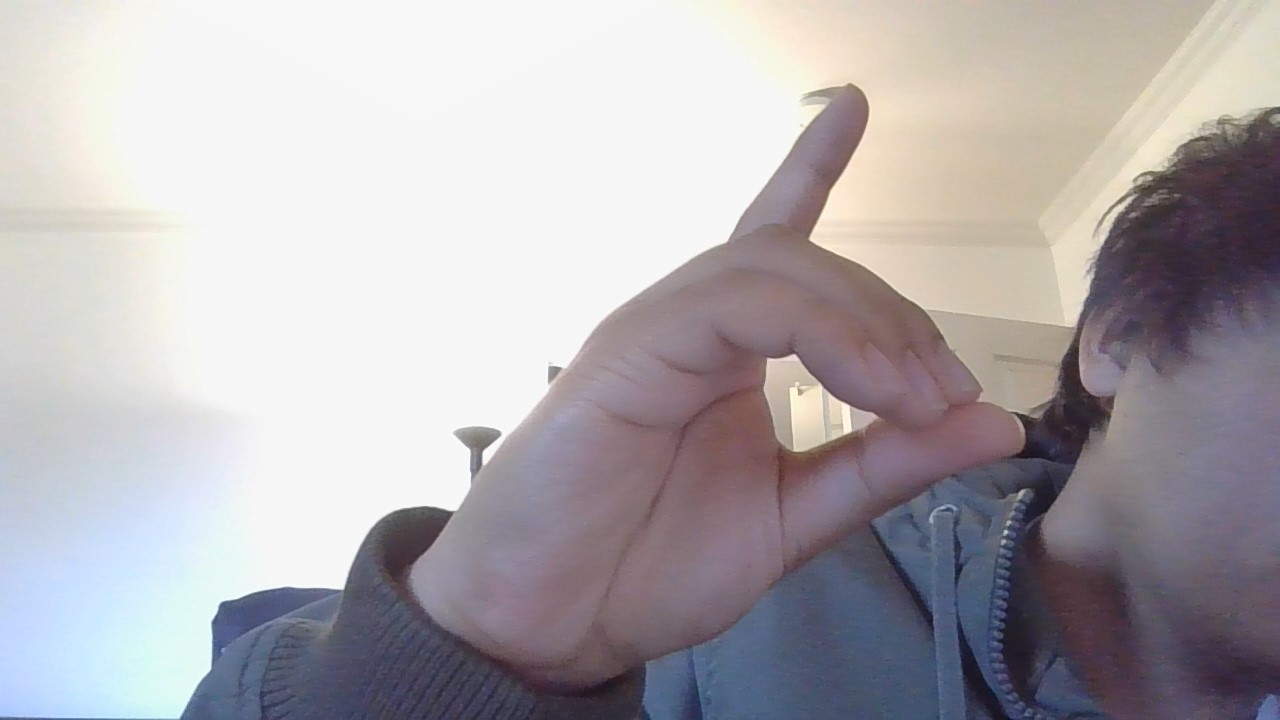d: (365, 76, 1043, 657)
